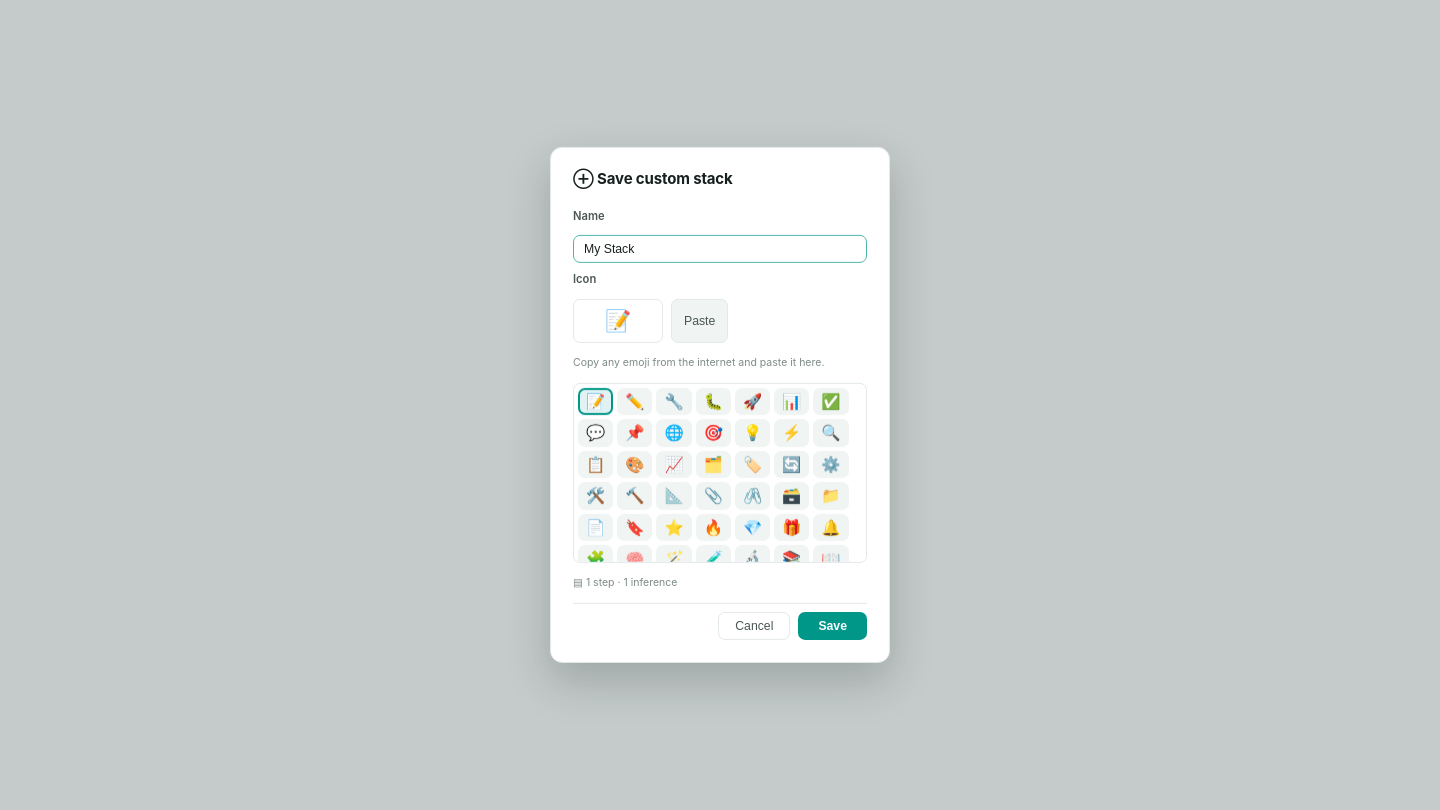
Scenario: SaveStackDialog › Save button is disabled when name is empty
The image size is (1440, 810).
Clear the field labelled "Name": (720, 249) x1=573 y1=235 x2=867 y2=263
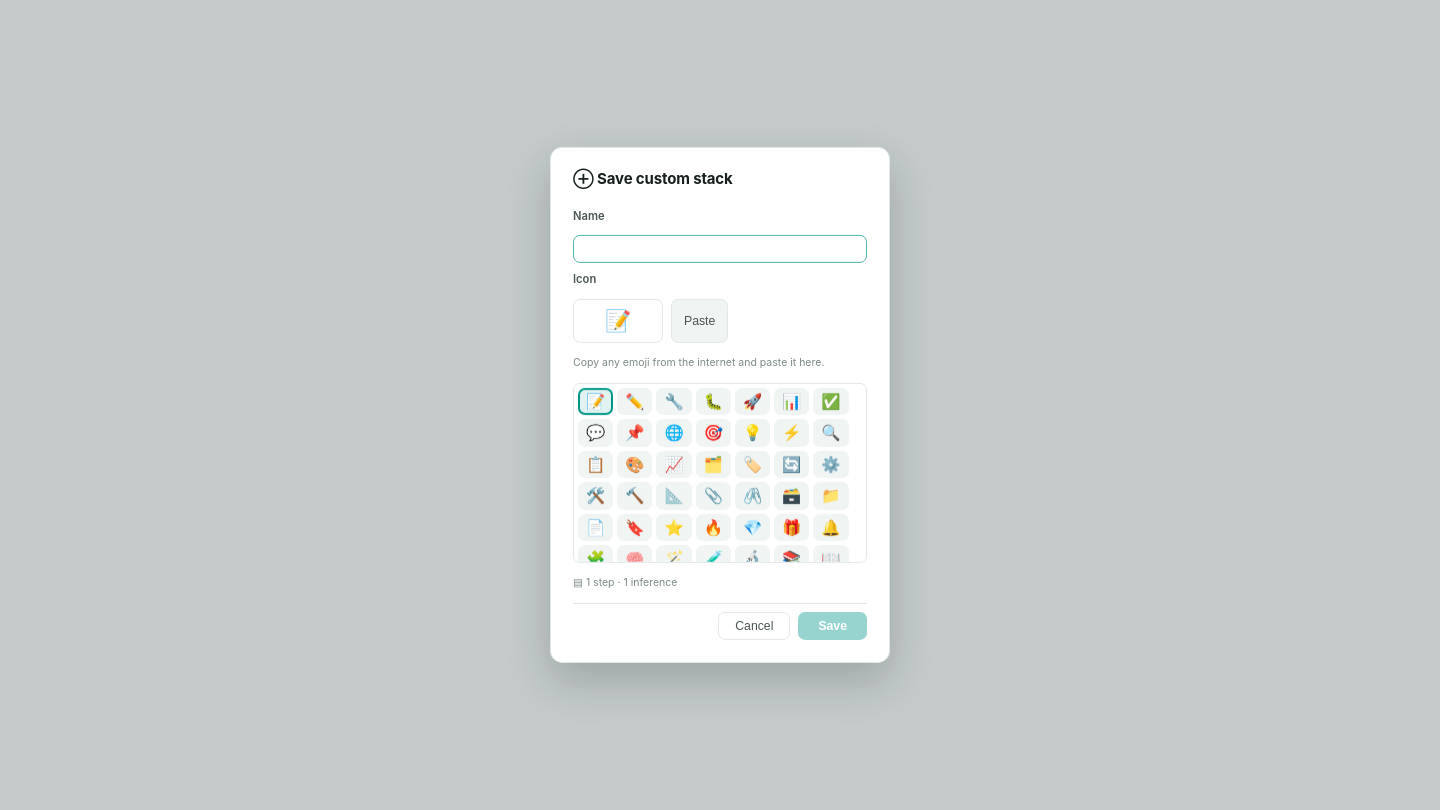
Check: the button "Save" is disabled, box x1=798 y1=612 x2=867 y2=640
